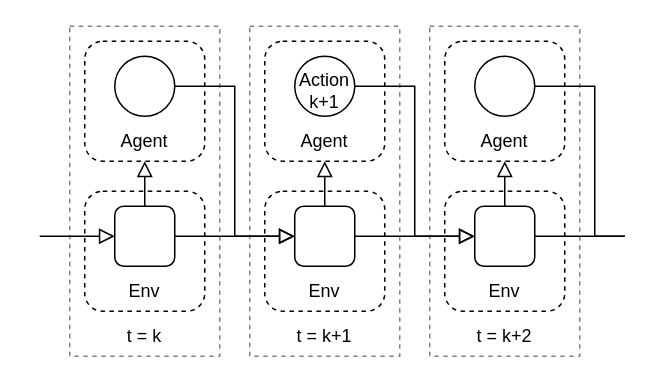
Image size: 653x383. Some labels were removed from this diagram. Each missing label, with the centre of its shape:
Action k: (x=144, y=85)
Action k+2: (x=504, y=85)
State k: (x=144, y=235)
State k+1: (x=324, y=235)
State k+2: (x=504, y=235)
